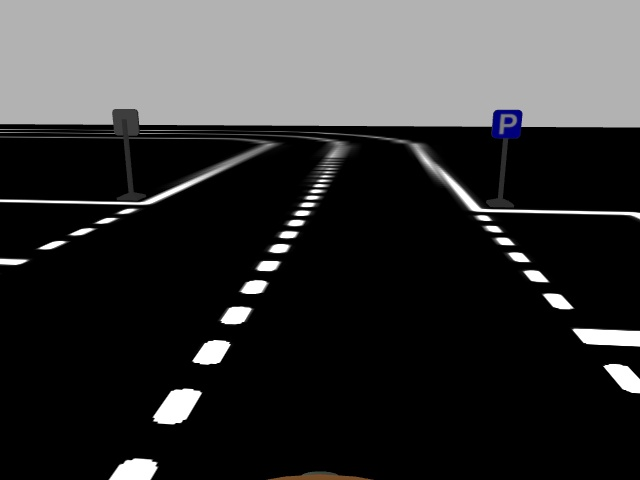parking: (491, 108, 522, 138)
